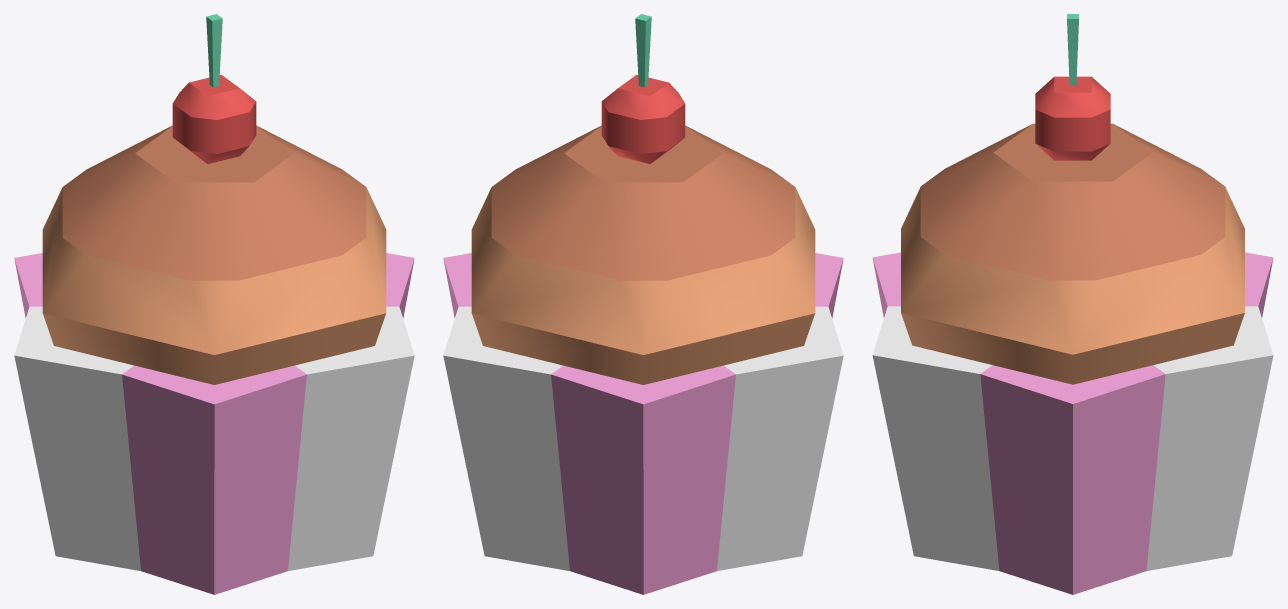
Rendered from cupcake.obj.
The picture shows the model from 3 angles, left to right: view 1: azimuth 30°, elevation 25°; view 2: azimuth 150°, elevation 25°; view 3: azimuth 270°, elevation 25°; orthographic projection.
Parts seen in each view (by area): view 1: cupcake, cake, cherry; view 2: cupcake, cake, cherry; view 3: cupcake, cake, cherry.
Boxes of the visible parts, bbox=[...] form: cupcake: bbox=[14, 253, 414, 594]; cake: bbox=[42, 125, 386, 384]; cherry: bbox=[172, 14, 256, 163]; cupcake: bbox=[443, 253, 843, 594]; cake: bbox=[471, 125, 815, 384]; cherry: bbox=[601, 14, 685, 163]; cupcake: bbox=[872, 252, 1273, 594]; cake: bbox=[901, 123, 1244, 384]; cherry: bbox=[1035, 14, 1110, 160].
Size of the model in its own units: 0.3552 by 0.4238 by 0.3076.
